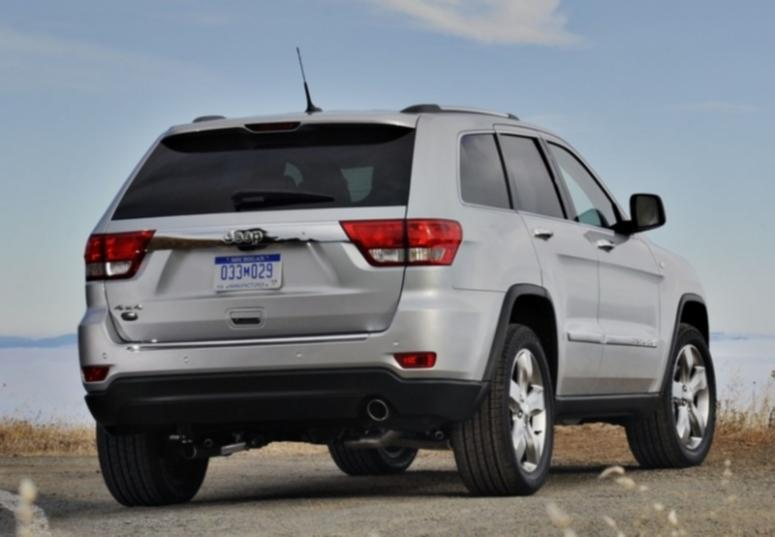jeep: (216, 216, 274, 260)
